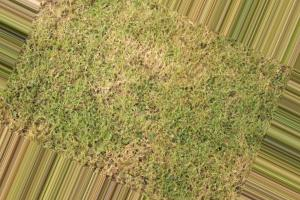patch: (89, 32, 179, 124)
